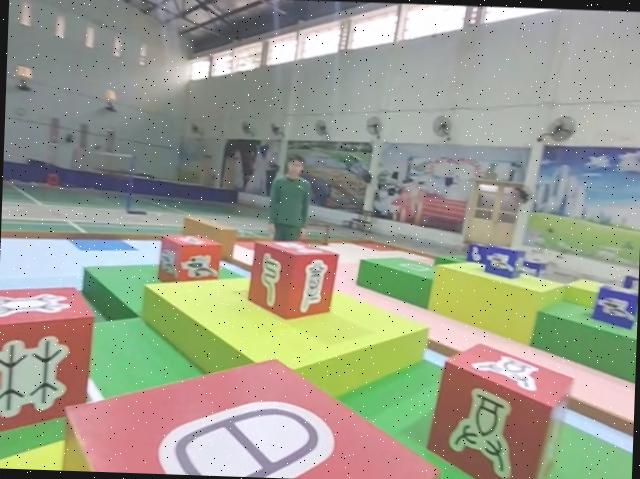R1: (155, 230, 224, 290)
R2 Fake: (59, 347, 445, 479), (245, 236, 341, 322)
R2 Real: (424, 336, 577, 479), (0, 280, 97, 445)
